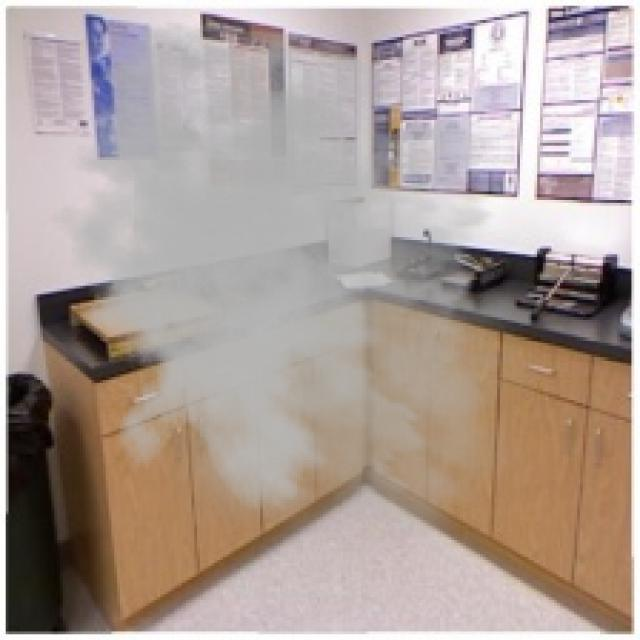Smoke: (34, 20, 554, 560)
